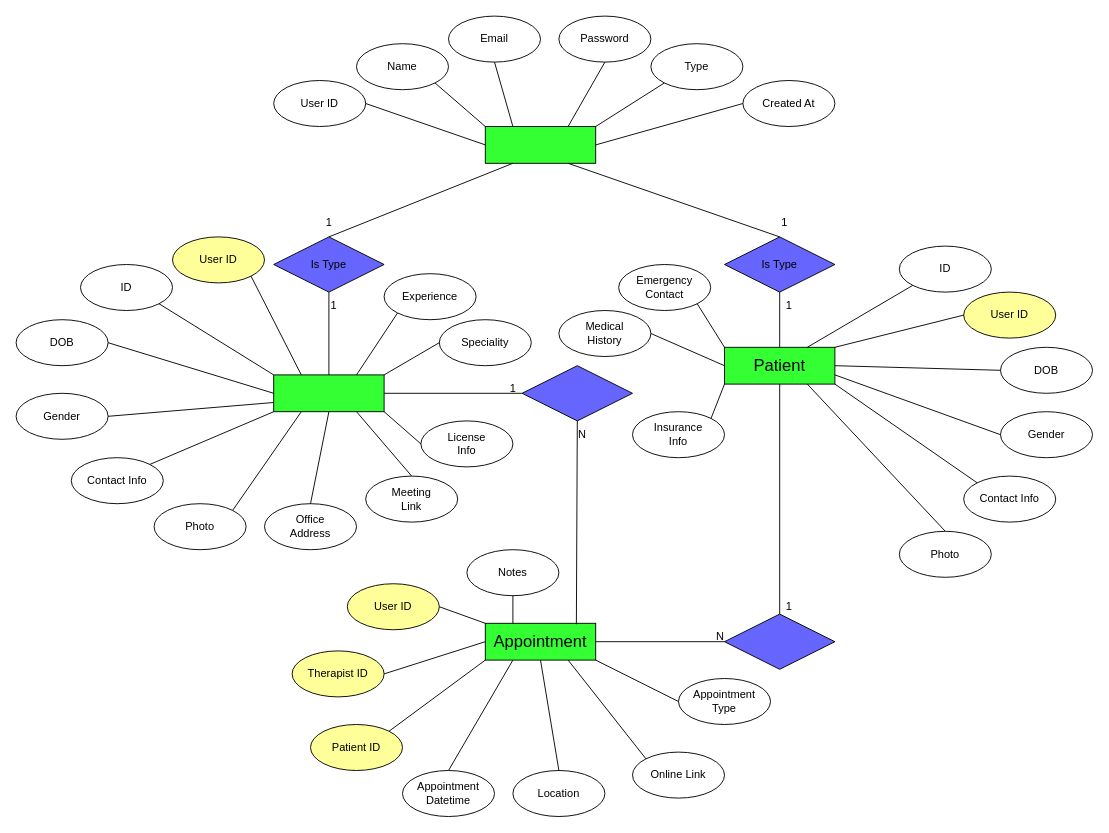
Some shapes in this 1109 by 833 pixel diagram are drawn without their labels. The shapes that lost their labels are listed below. From the top down, each one's centre as x and y in pixels, then its label:
point 540,144: User
point 328,393: Therapist
point 576,393: Has
point 779,641: Book
